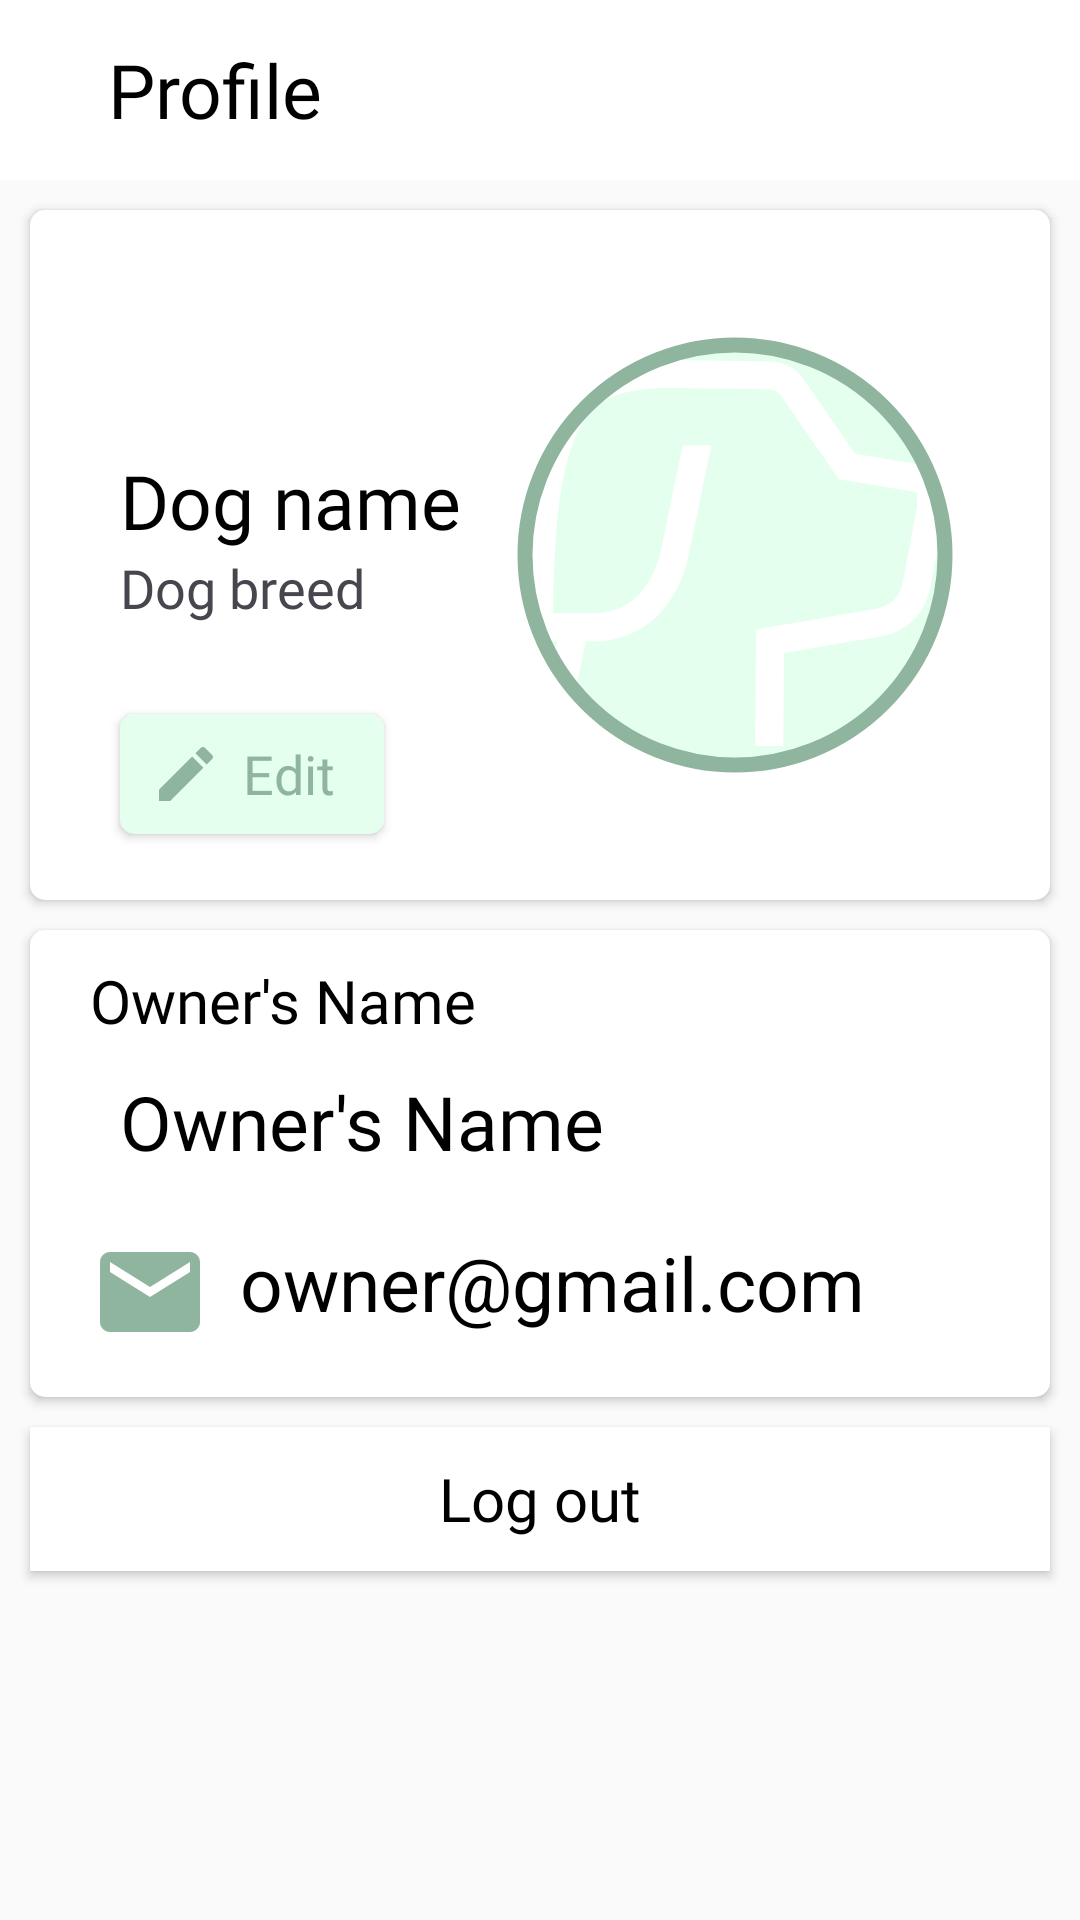

Named icons in this screenshot (1080×1920) and their bounding boxes, (left=x1, top=y1, right=x2, bottom=y2):
email: (left=100, top=1252, right=200, bottom=1332)
